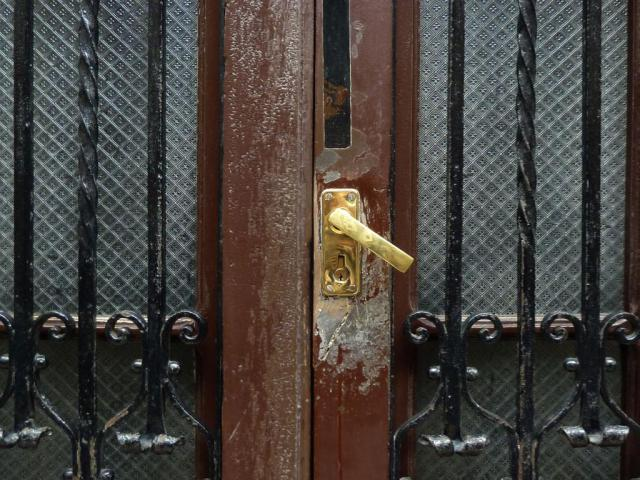Door-handle: (318, 186, 415, 297)
